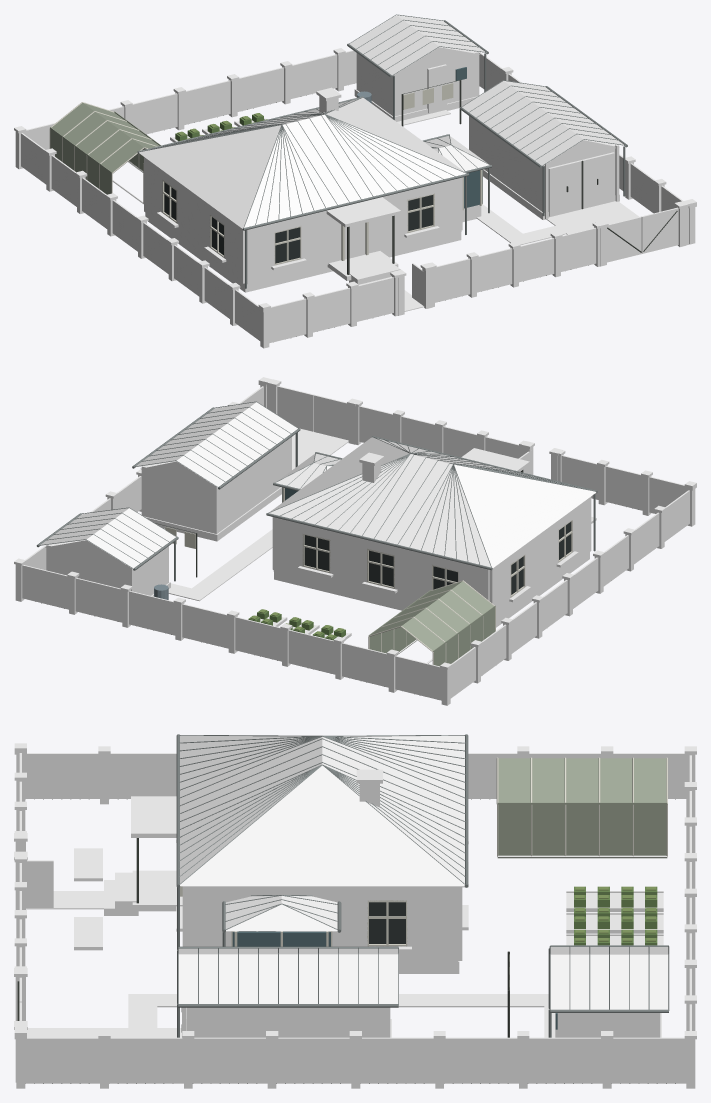
The picture shows the model from 3 angles, top to bottom: view 1: azimuth 30°, elevation 25°; view 2: azimuth 150°, elevation 25°; view 3: azimuth 270°, elevation 25°; orthographic projection. The views are drawn at different scales.
Visible parts, largest first — view 1: ParcelGeometry.023, SummerPlanting.021; view 2: ParcelGeometry.023, SummerPlanting.021; view 3: ParcelGeometry.023, SummerPlanting.021.
Boxes of the visible parts, x1,y1,x2,y2 form: ParcelGeometry.023: (14, 14, 696, 348); SummerPlanting.021: (175, 83, 453, 141); ParcelGeometry.023: (14, 377, 696, 705); SummerPlanting.021: (165, 527, 345, 640); ParcelGeometry.023: (14, 734, 696, 1088); SummerPlanting.021: (509, 886, 657, 989).
Size of the model in its own units: 20.23 by 5.06 by 20.15.
